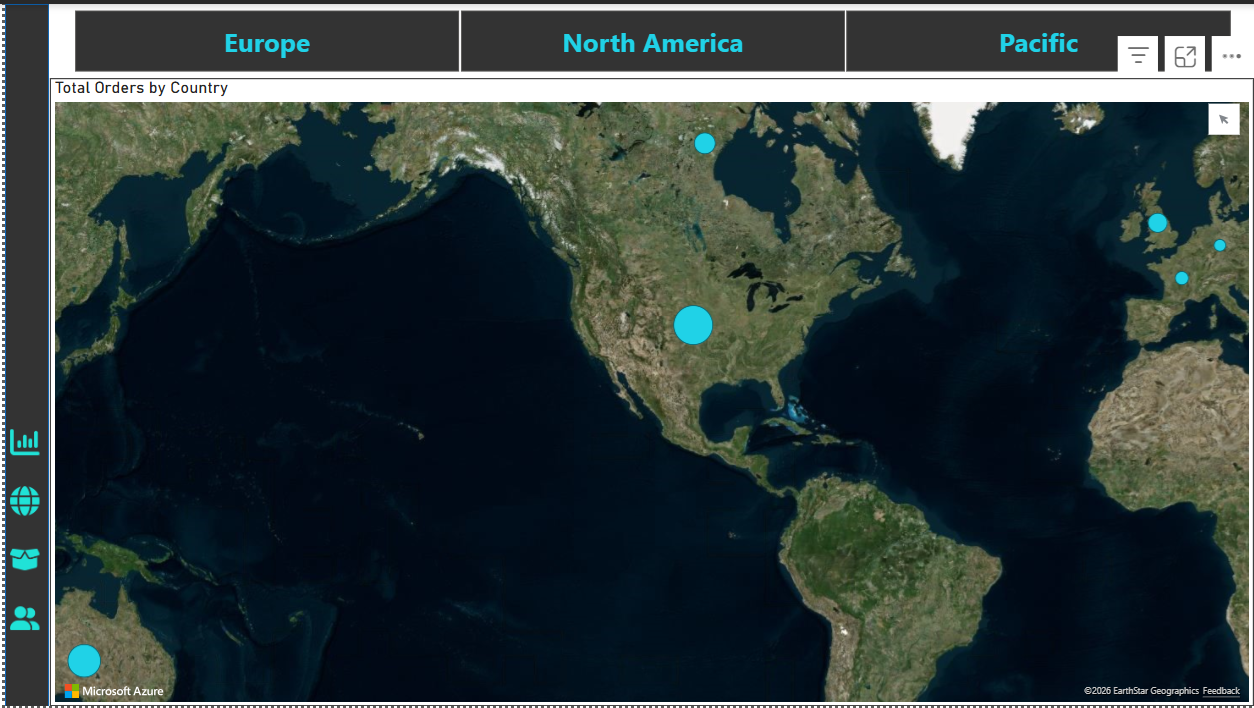

What the dashboard file says about the page in this screenshot:
{"tool":"powerbi","page":{"name":"Map","canvas":[1280,720],"ordinal":1},"visuals":[{"type":"shape","box":[0,0,45,720.9],"z":0},{"type":"image","box":[0,600.4,40.2,60.2],"z":0,"group":"g1"},{"type":"slicer","fields":{"Values":["AW_Territories_Lookup.Continent"]},"box":[45.8,0,1233.7,75.8],"z":1000},{"type":"image","box":[0,540.2,40.2,60.2],"z":1000,"group":"g1"},{"type":"map","fields":{"Category":["AW_Territories_Lookup.Country"],"Size":["AW_Sales.Total Orders"]},"box":[46,76,1234,644],"z":2000},{"type":"image","box":[0,419.7,40.2,60.2],"z":2000,"group":"g1"},{"type":"group","id":"g1","title":"Navigation Buttons","box":[0,419.7,40.2,241],"z":3000},{"type":"image","box":[0,479.9,40.2,60.2],"z":3000,"group":"g1"}]}

Visuals, with their boxes in screenshot pixels (x1, y1, x2, y2):
shape: {"left": 3, "top": 0, "right": 47, "bottom": 696}
image: {"left": 3, "top": 580, "right": 42, "bottom": 638}
slicer - AW_Territories_Lookup.Continent: {"left": 48, "top": 0, "right": 1239, "bottom": 73}
image: {"left": 3, "top": 522, "right": 42, "bottom": 580}
map - AW_Territories_Lookup.Country x AW_Sales.Total Orders: {"left": 48, "top": 73, "right": 1240, "bottom": 696}
image: {"left": 3, "top": 405, "right": 42, "bottom": 464}
"Navigation Buttons" group: {"left": 3, "top": 405, "right": 42, "bottom": 638}
image: {"left": 3, "top": 464, "right": 42, "bottom": 522}
